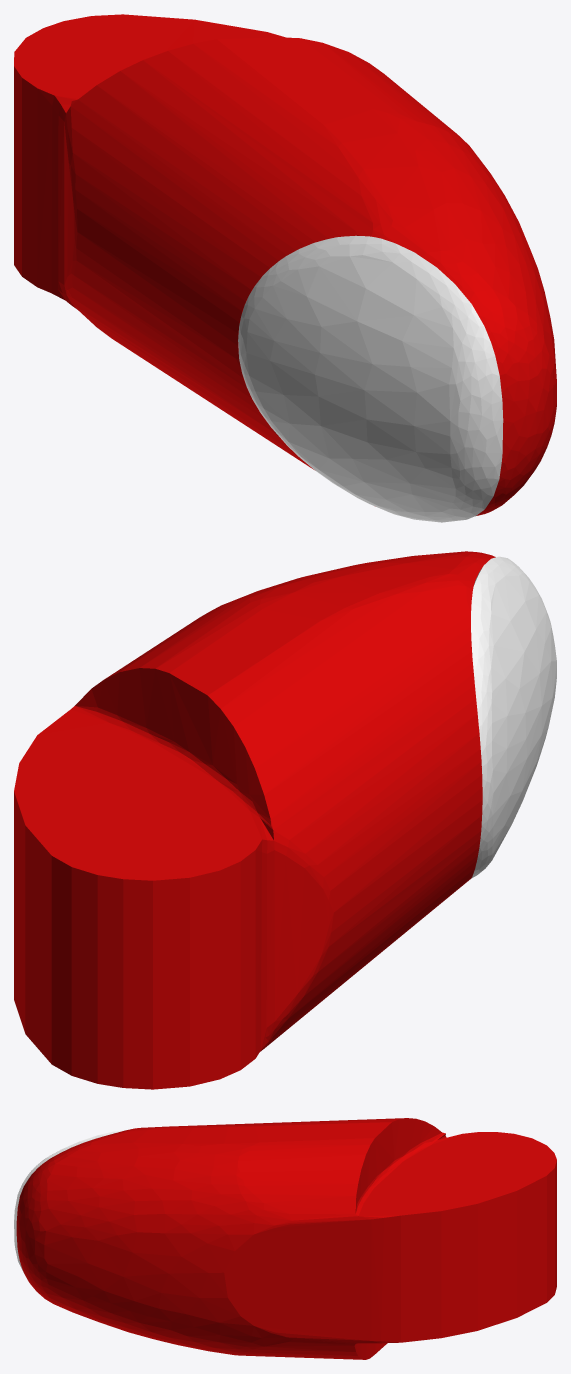
Rendered from thumb_link4.dae.
3 views of the same model, one above another, from view 1: azimuth 30°, elevation 25°; view 2: azimuth 150°, elevation 25°; view 3: azimuth 270°, elevation 25° (orthographic). The views are drawn at different scales.
Parts seen in each view (by area): view 1: Untitled, Untitled_001; view 2: Untitled, Untitled_001; view 3: Untitled, Untitled_001.
Boxes of the visible parts, x1,y1,x2,y2 form: Untitled: (14, 14, 556, 515); Untitled_001: (238, 235, 503, 522); Untitled: (14, 551, 495, 1089); Untitled_001: (471, 556, 556, 878); Untitled: (16, 1118, 556, 1359); Untitled_001: (14, 1130, 124, 1272).
Bounding box in the file's own units: 0.02 × 0.0511 × 0.0226.
